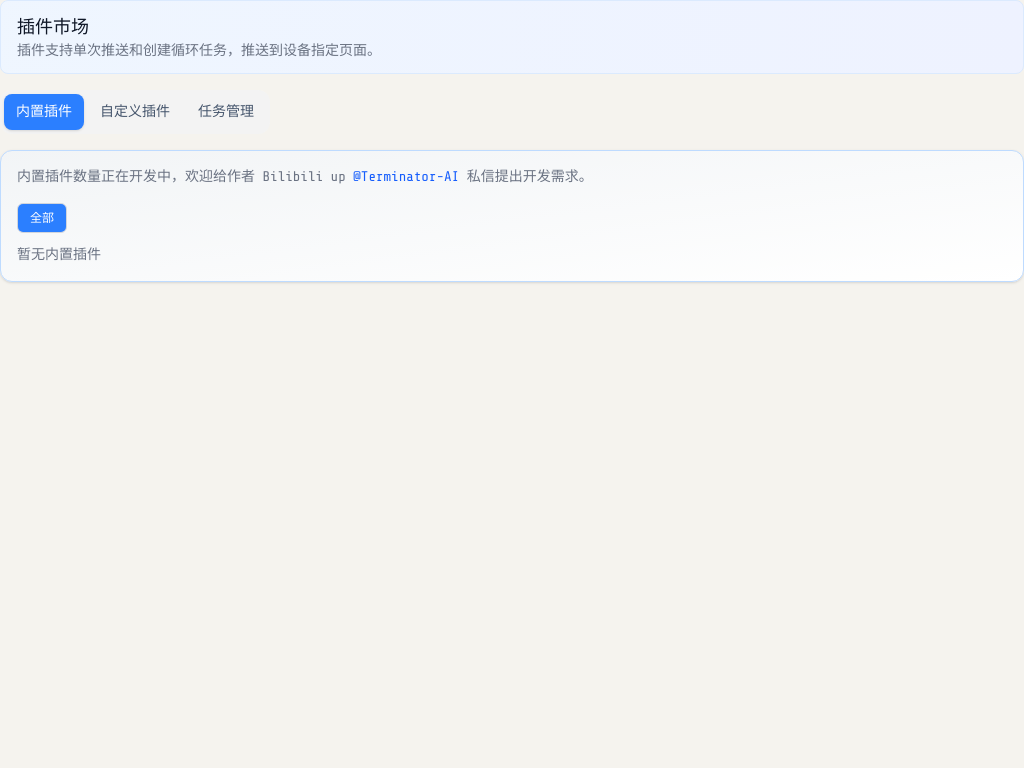
edits a custom plugin only from the card edit button
Click the tab "自定义插件": (135, 112) [88,94,182,130]
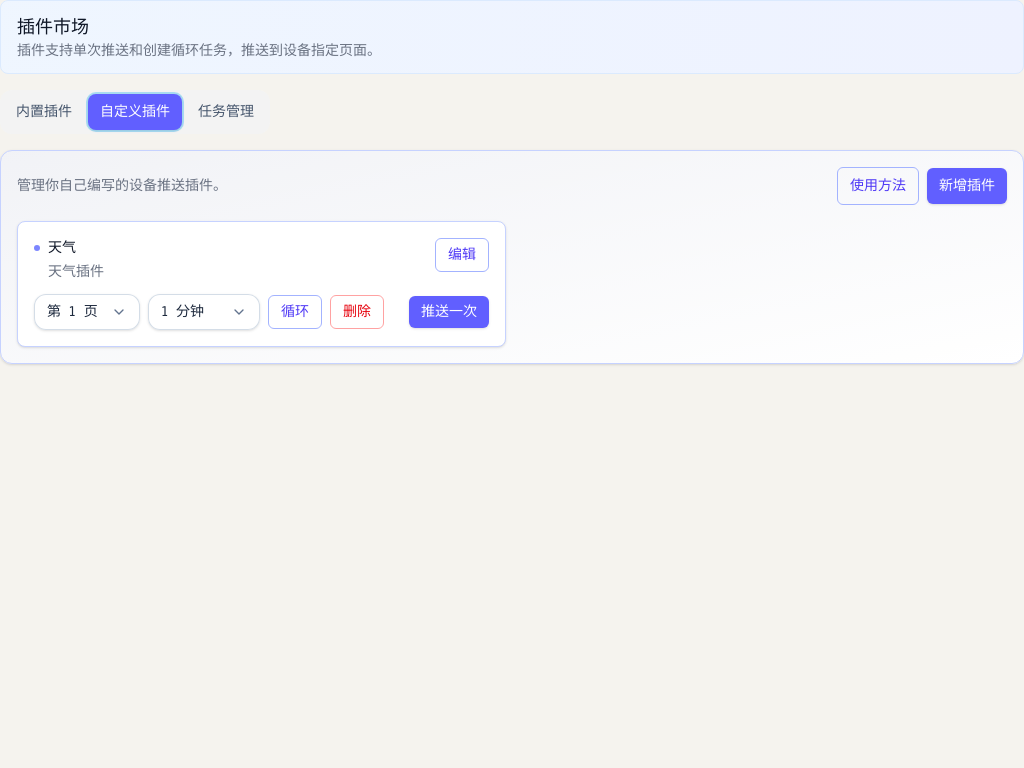
Click the text "天气": (62, 248) [48,238,76,258]
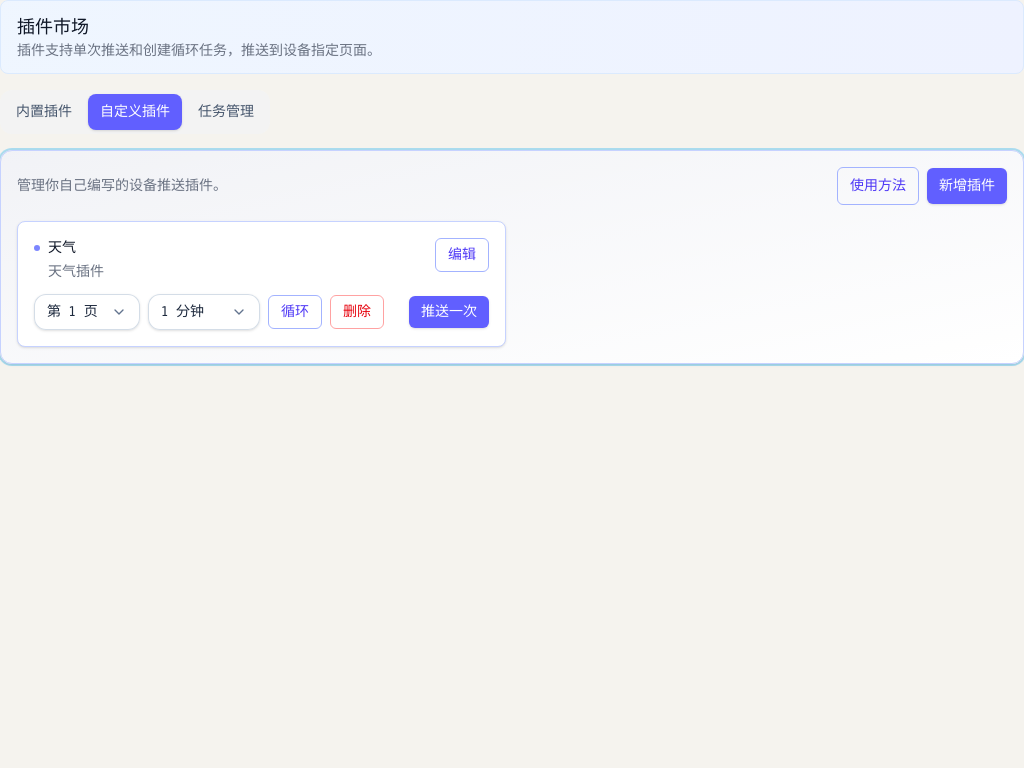
Check: the dialog "编辑插件 #7" is not shown
Click the button "编辑": (462, 255) [435,238,489,272]
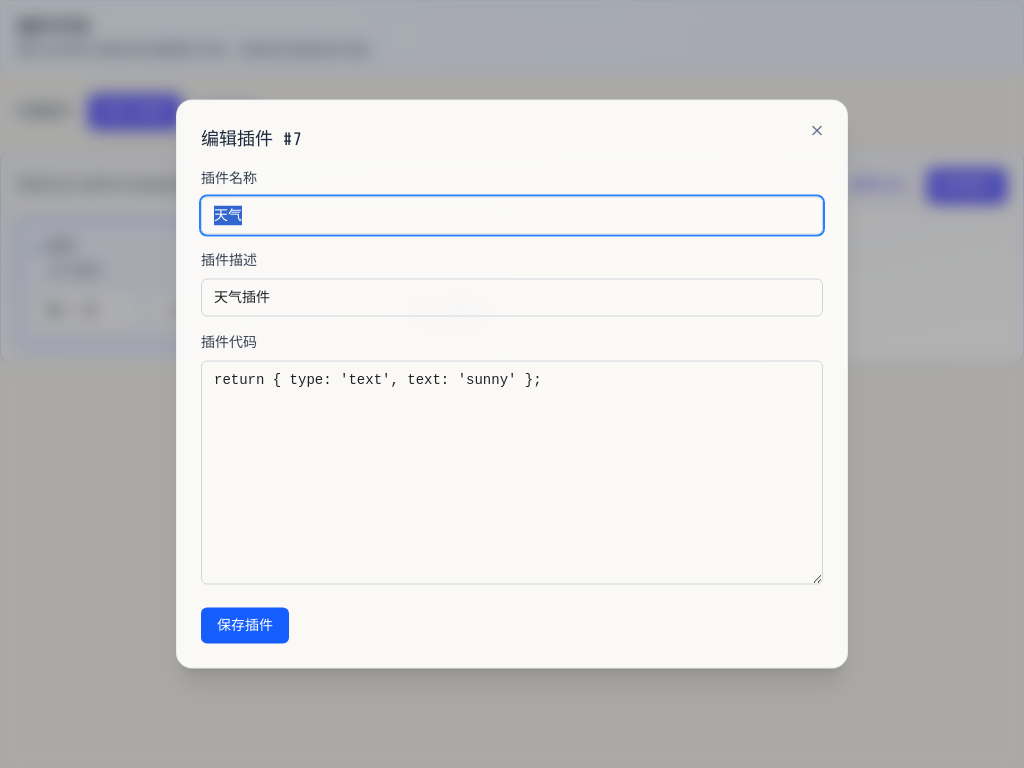
Check: the dialog "编辑插件 #7" is shown, box [176,100,848,668]
